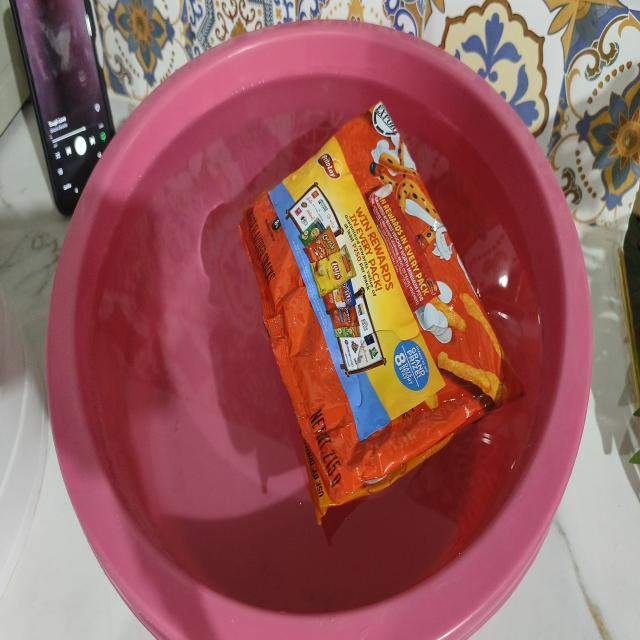Plastic Wrapper: (240, 102, 515, 524)
